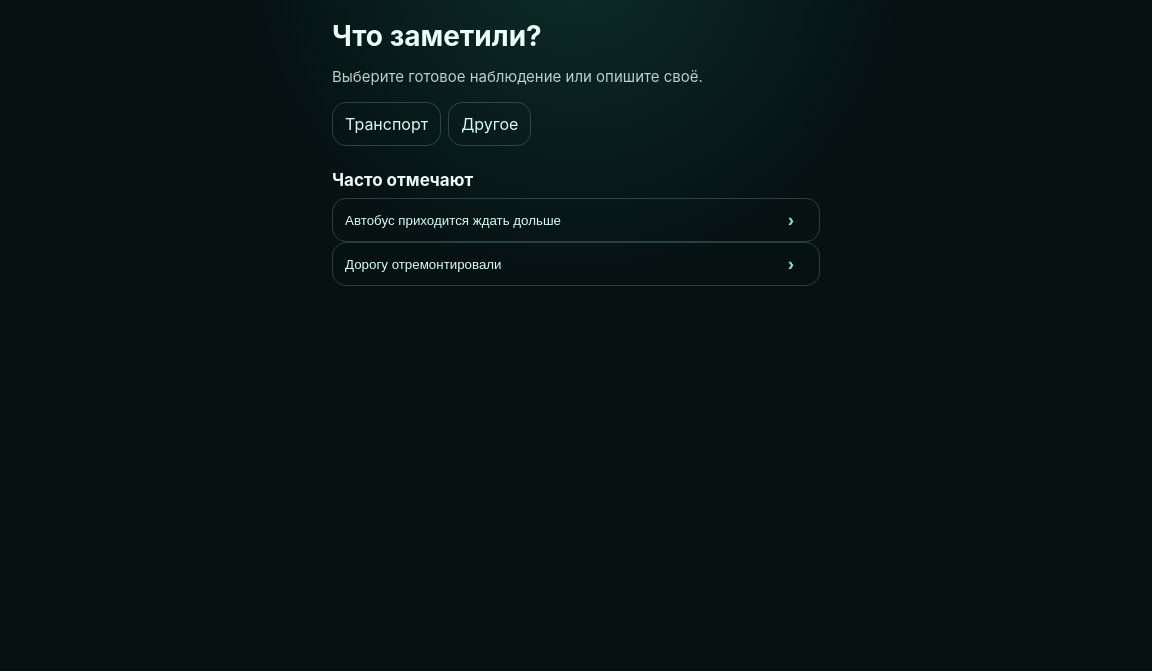
Scenario: MobileDeltaCreateFlow observation controller › geolocation denial remains on location with a visible message
Click the button "Автобус приходится ждать дольше ›": (453, 220) [332,198,820,242]
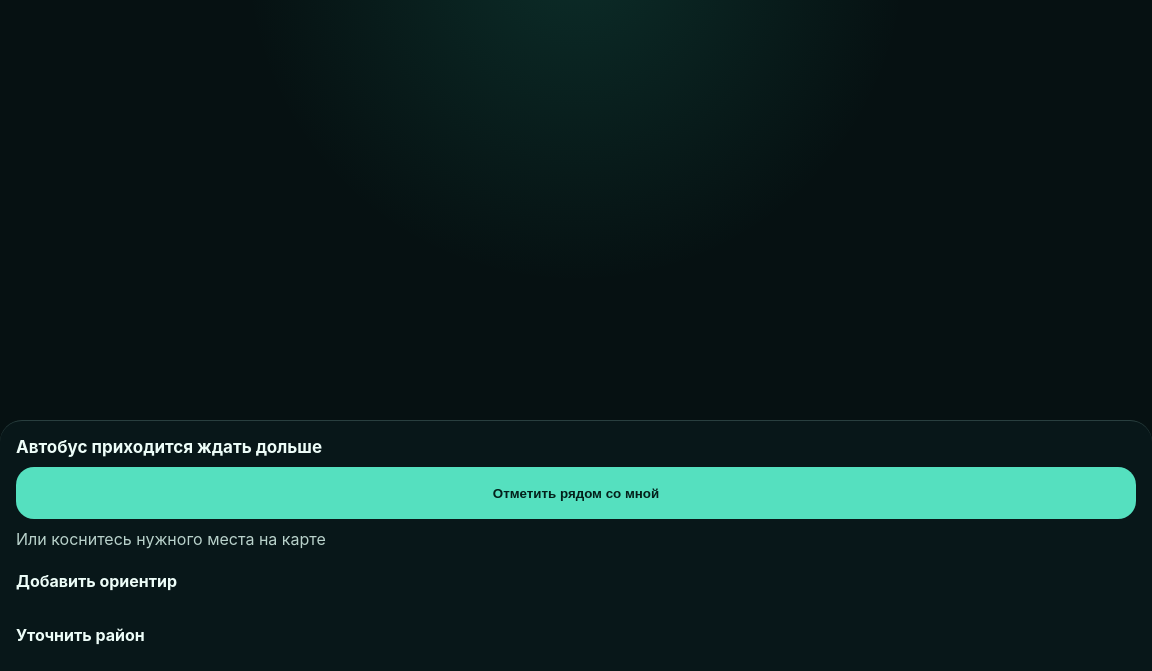
Click the button "Отметить рядом со мной": (576, 493) [16,467,1136,519]
(page scrolled)
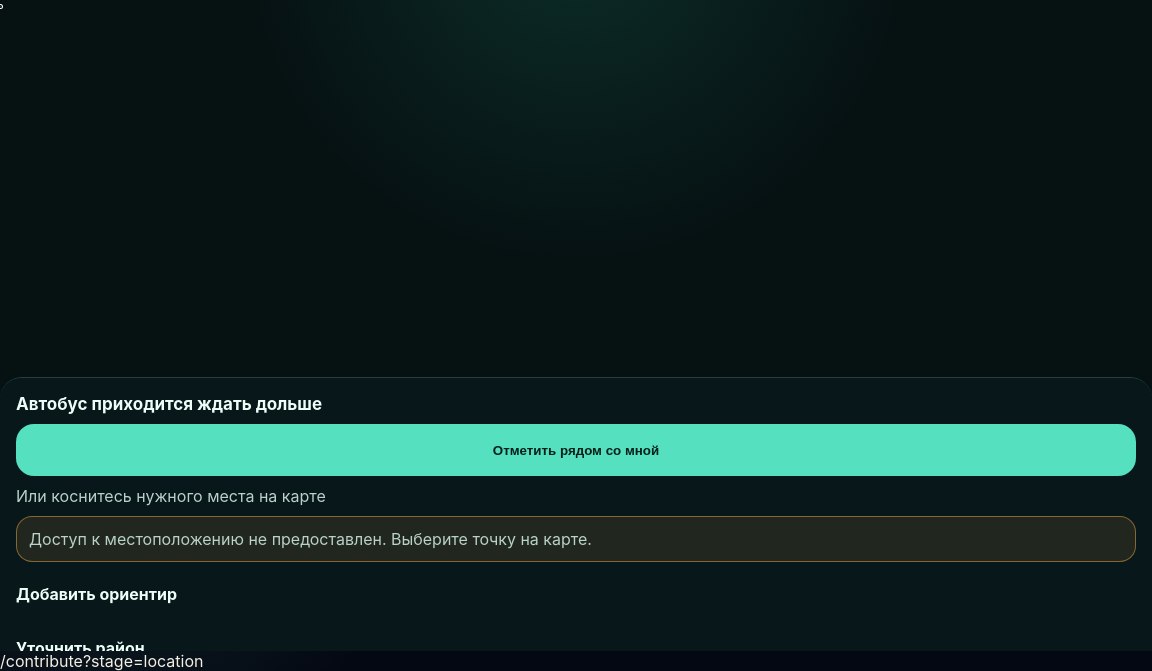
Check: the text named "route" reads "/contribute?stage=location", box [0,651,204,670]
Check: the message shows "Доступ к местоположению не предоставлен", box [29,529,592,549]
